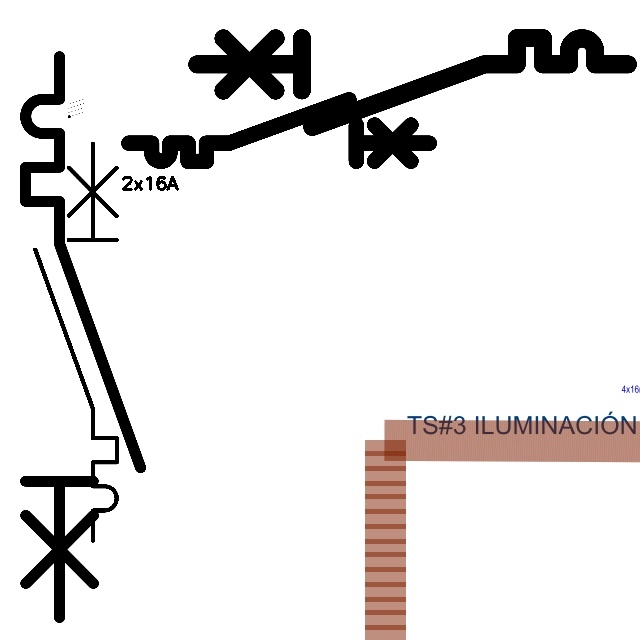interruptor_termomagnetico: (11, 42, 155, 632), (186, 27, 639, 138), (25, 133, 127, 551), (121, 92, 437, 169)
